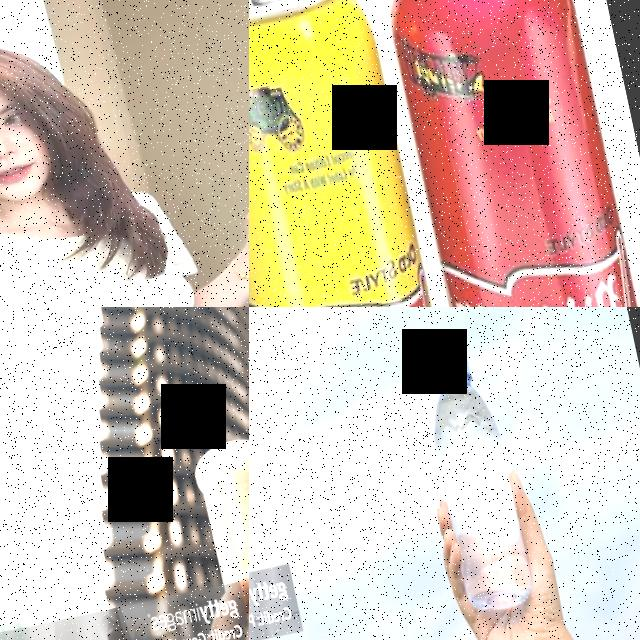bottle: (413, 336, 541, 617)
can: (365, 0, 640, 307), (249, 0, 480, 307)
cup: (188, 429, 249, 640)
